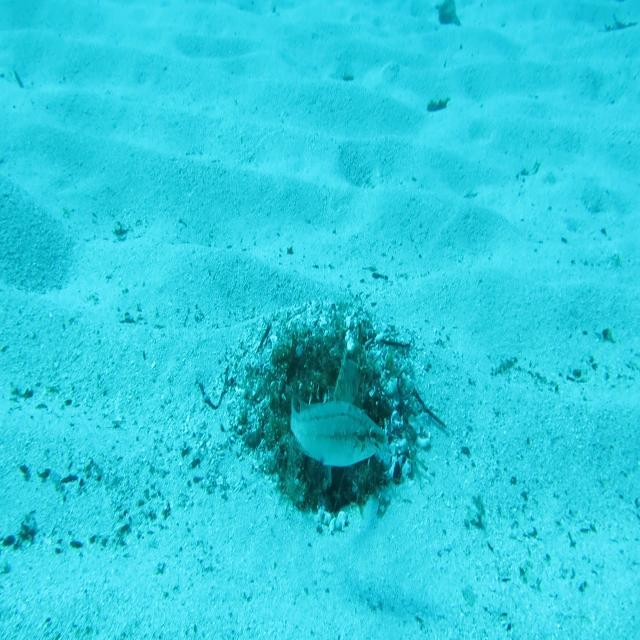MAN: (319, 346, 363, 496)
core_nest: (298, 351, 344, 386)
female: (288, 378, 389, 469)
nest: (220, 288, 434, 542)
vegetation: (424, 96, 453, 115)
